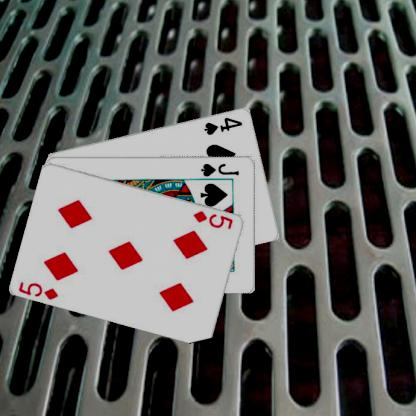4S: (202, 114, 244, 136)
5D: (16, 279, 60, 302), (191, 208, 235, 230)
JS: (198, 160, 240, 178)
